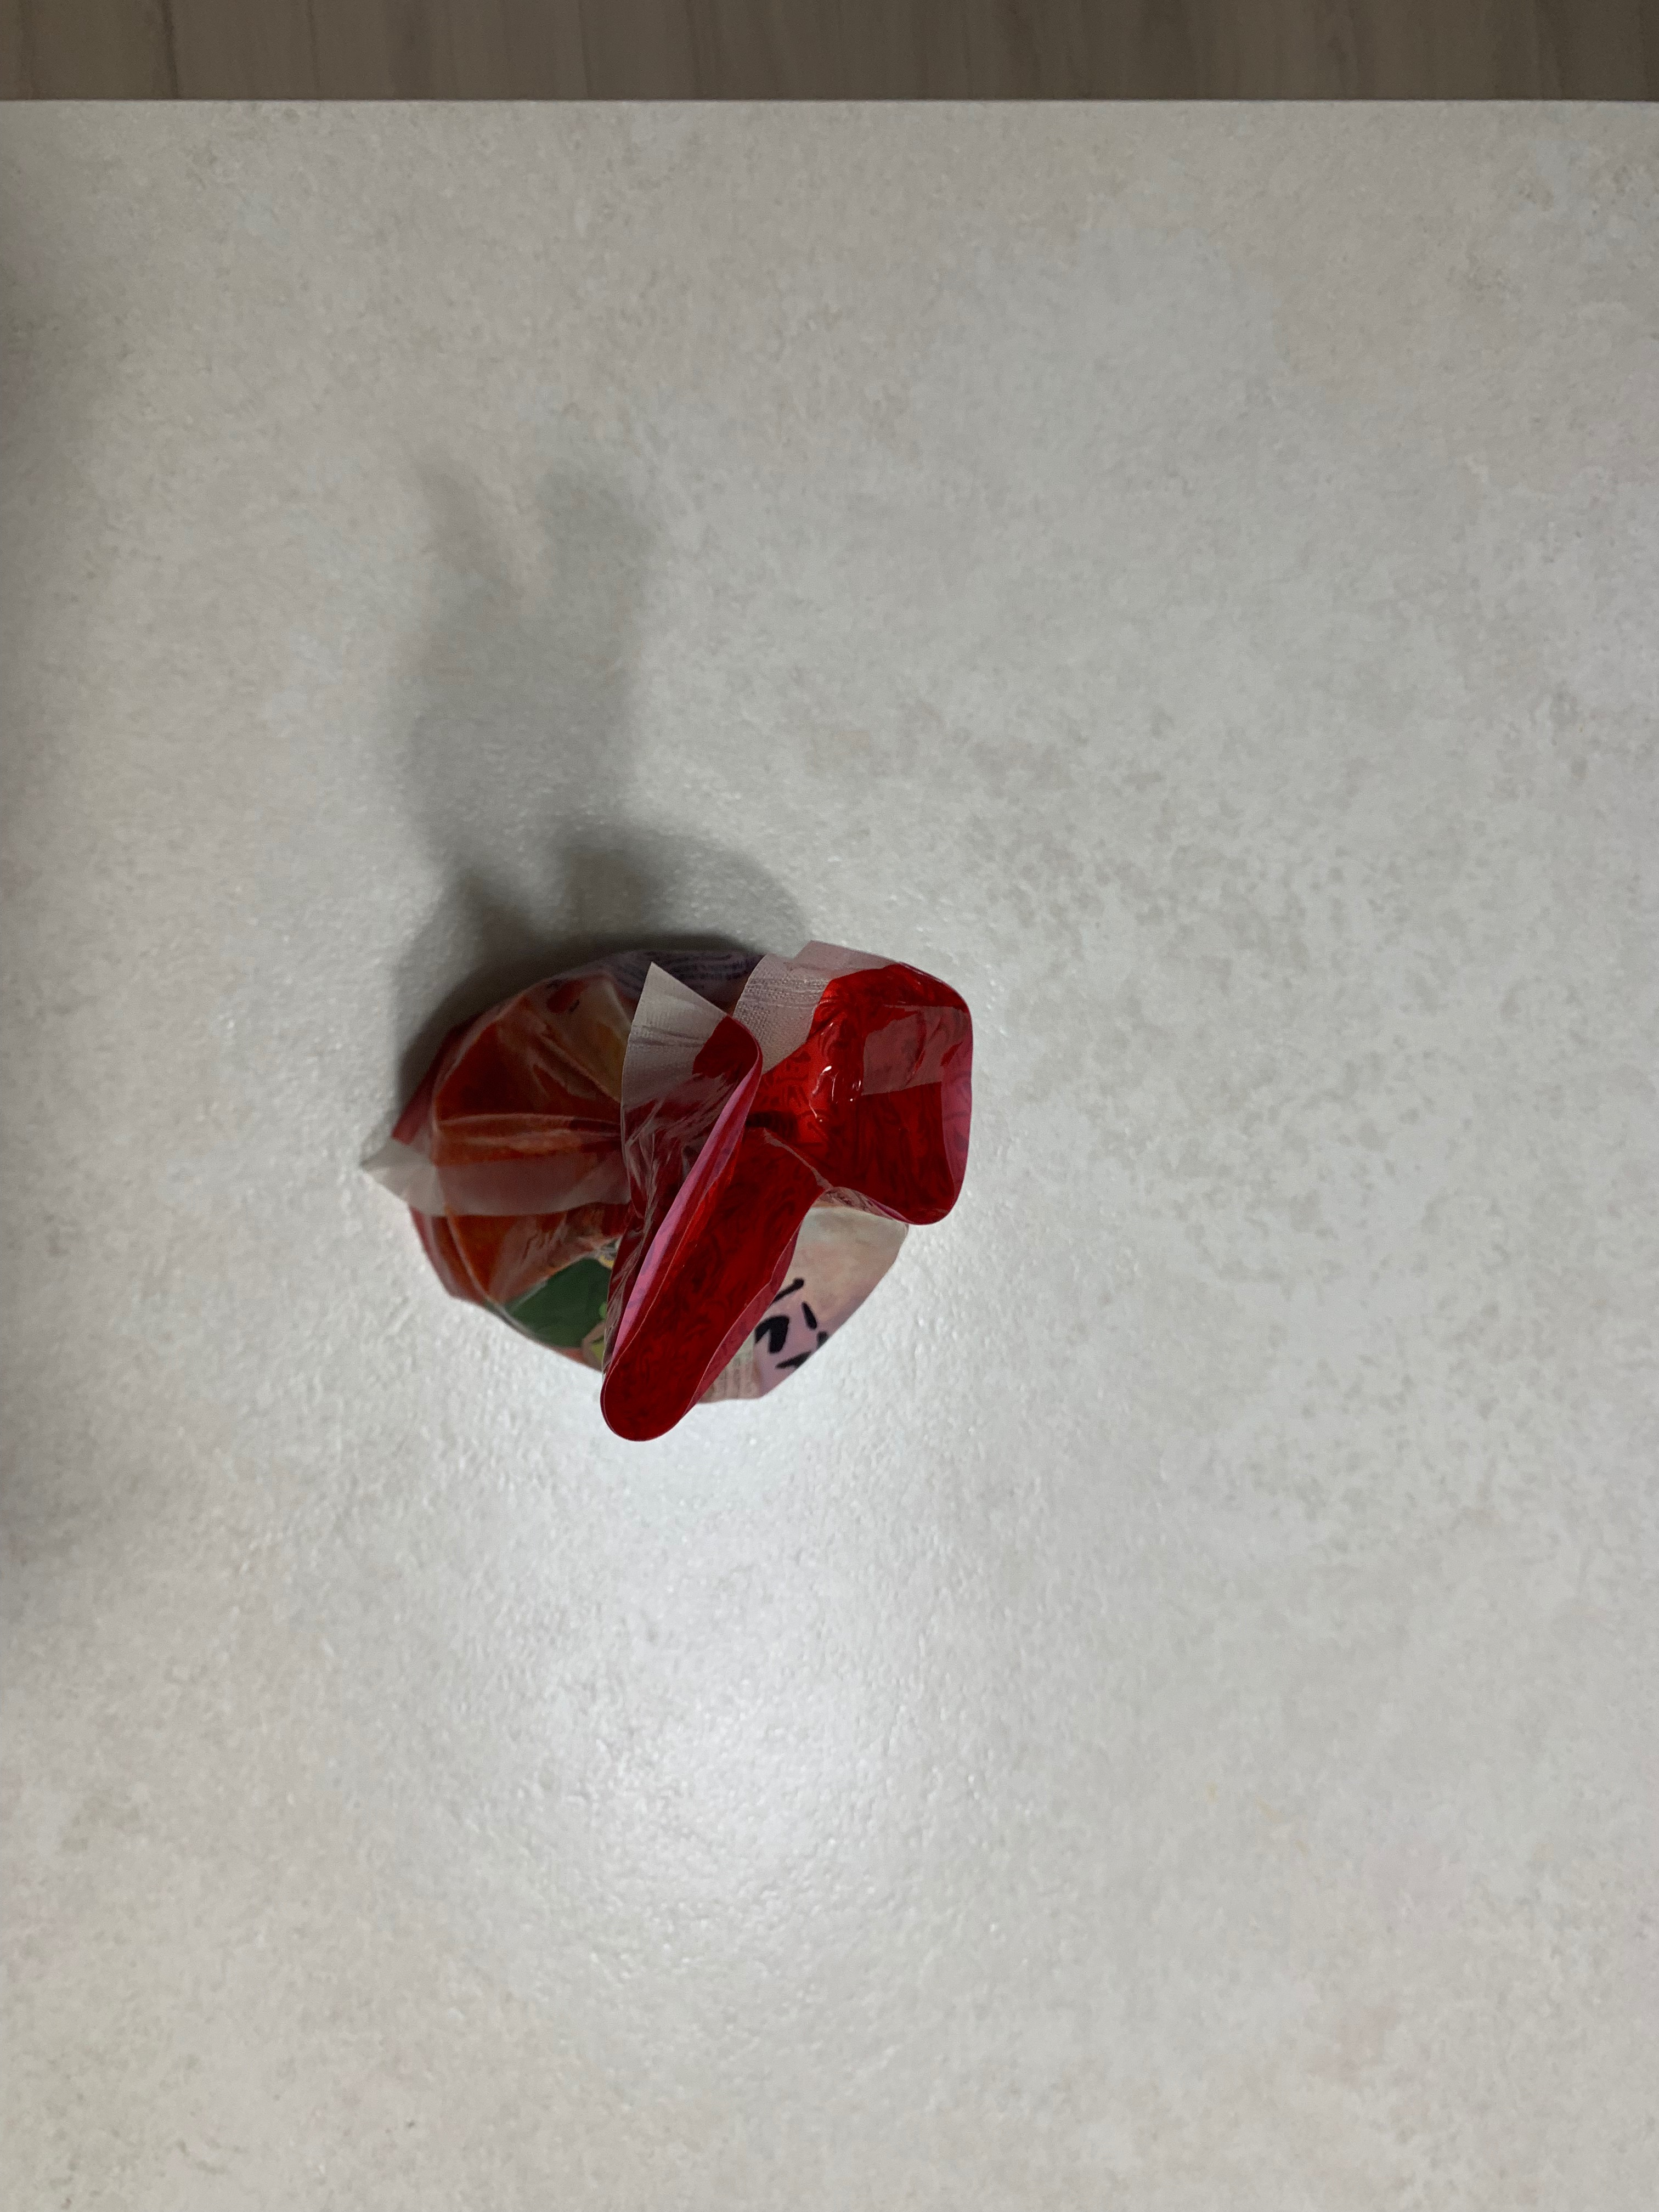kimchi: (396, 939, 972, 1444)
